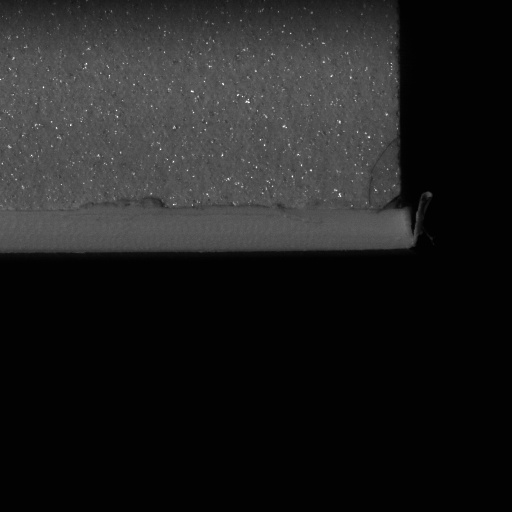bengque: (377, 190, 408, 215)
